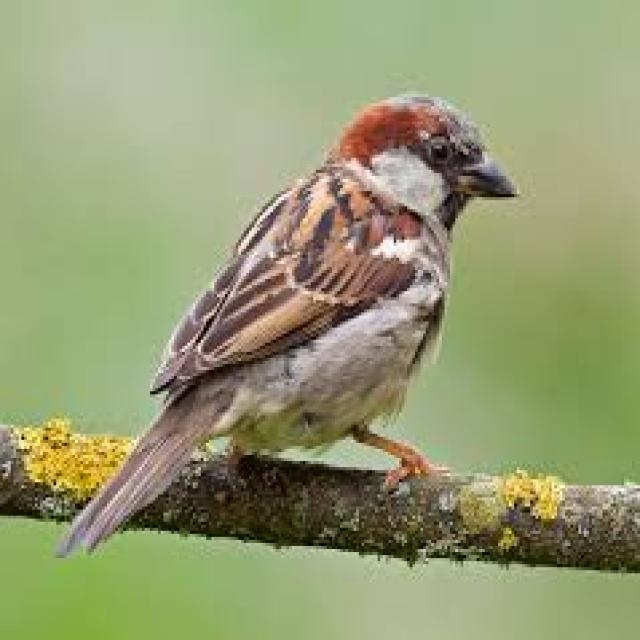Sparrow: (54, 93, 520, 562)
